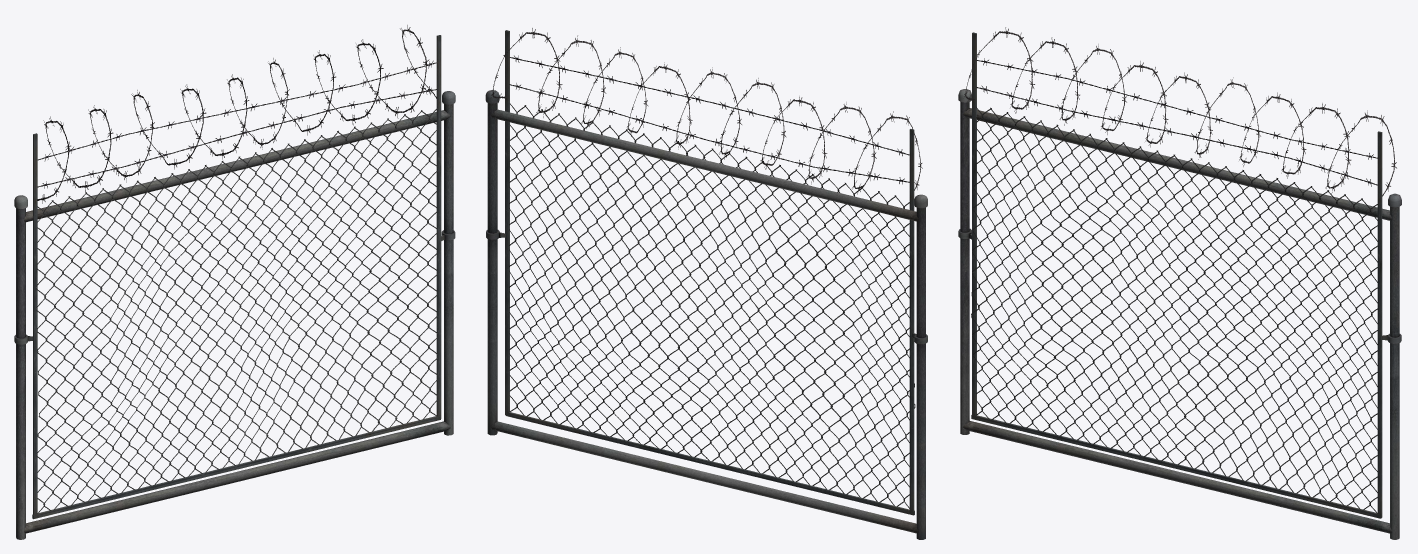
Rendered from chainlink_barbwire-1.FBX.
3 views of the same model, side by side, from view 1: azimuth 30°, elevation 25°; view 2: azimuth 150°, elevation 25°; view 3: azimuth 330°, elevation 25° (orthographic).
Visible parts, largest first — view 1: chainlink_barbwire-1_LOD0; view 2: chainlink_barbwire-1_LOD0; view 3: chainlink_barbwire-1_LOD0.
Part boxes in pixels (<box>): chainlink_barbwire-1_LOD0: <box>14,25,455,539</box>; chainlink_barbwire-1_LOD0: <box>485,28,927,539</box>; chainlink_barbwire-1_LOD0: <box>958,27,1401,539</box>.
Size of what is drawn, in the model's own units: 112 by 100 by 19.37.
